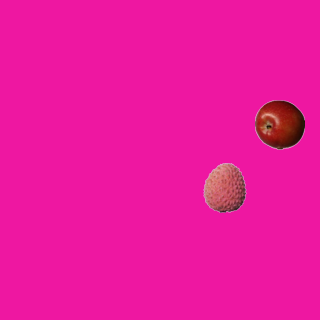Apple Braeburn: (254, 99, 304, 149)
Lychee: (199, 162, 249, 212)
